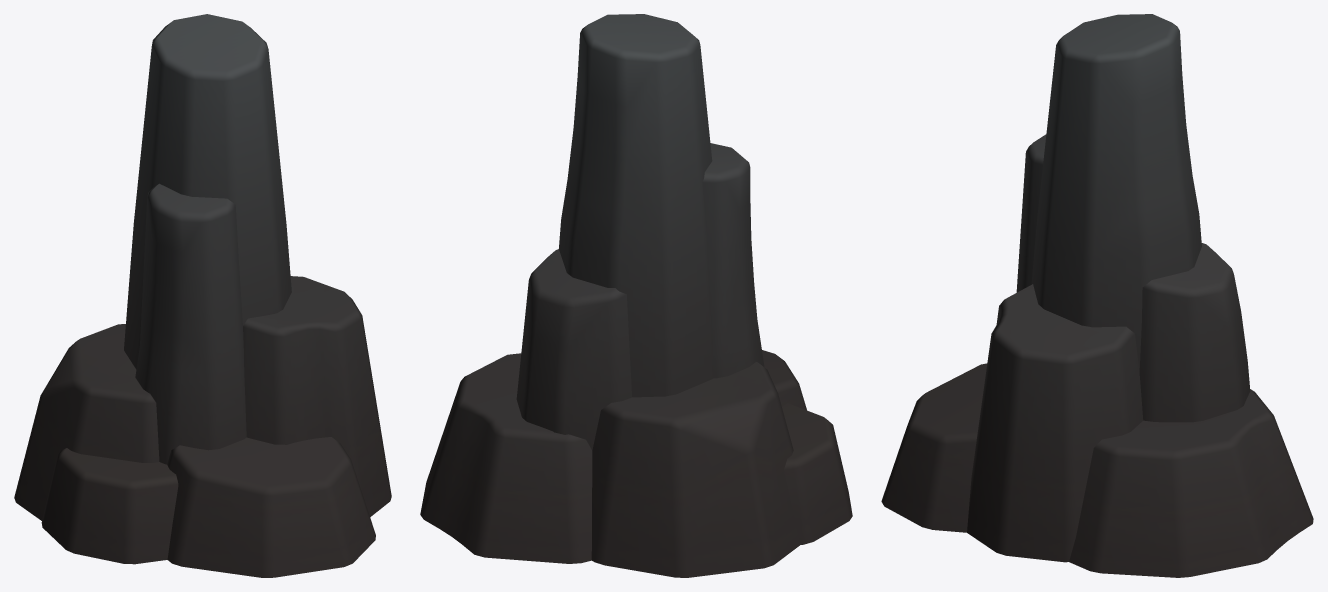
The model's file is inferno-rock-mid-002.glb.
3 views of the same model, side by side, from view 1: azimuth 30°, elevation 25°; view 2: azimuth 150°, elevation 25°; view 3: azimuth 270°, elevation 25° (orthographic). The views are drawn at different scales.
Visible parts, largest first — view 1: RockMid_002; view 2: RockMid_002; view 3: RockMid_002.
Boxes of the visible parts, box(x1,y1,x2,y2) form: RockMid_002: box(14, 14, 391, 577); RockMid_002: box(420, 14, 852, 577); RockMid_002: box(881, 14, 1313, 577).
Size of the model in its own units: 9.5 by 11.94 by 10.05.
Materials: 1 (1 with a texture image).
